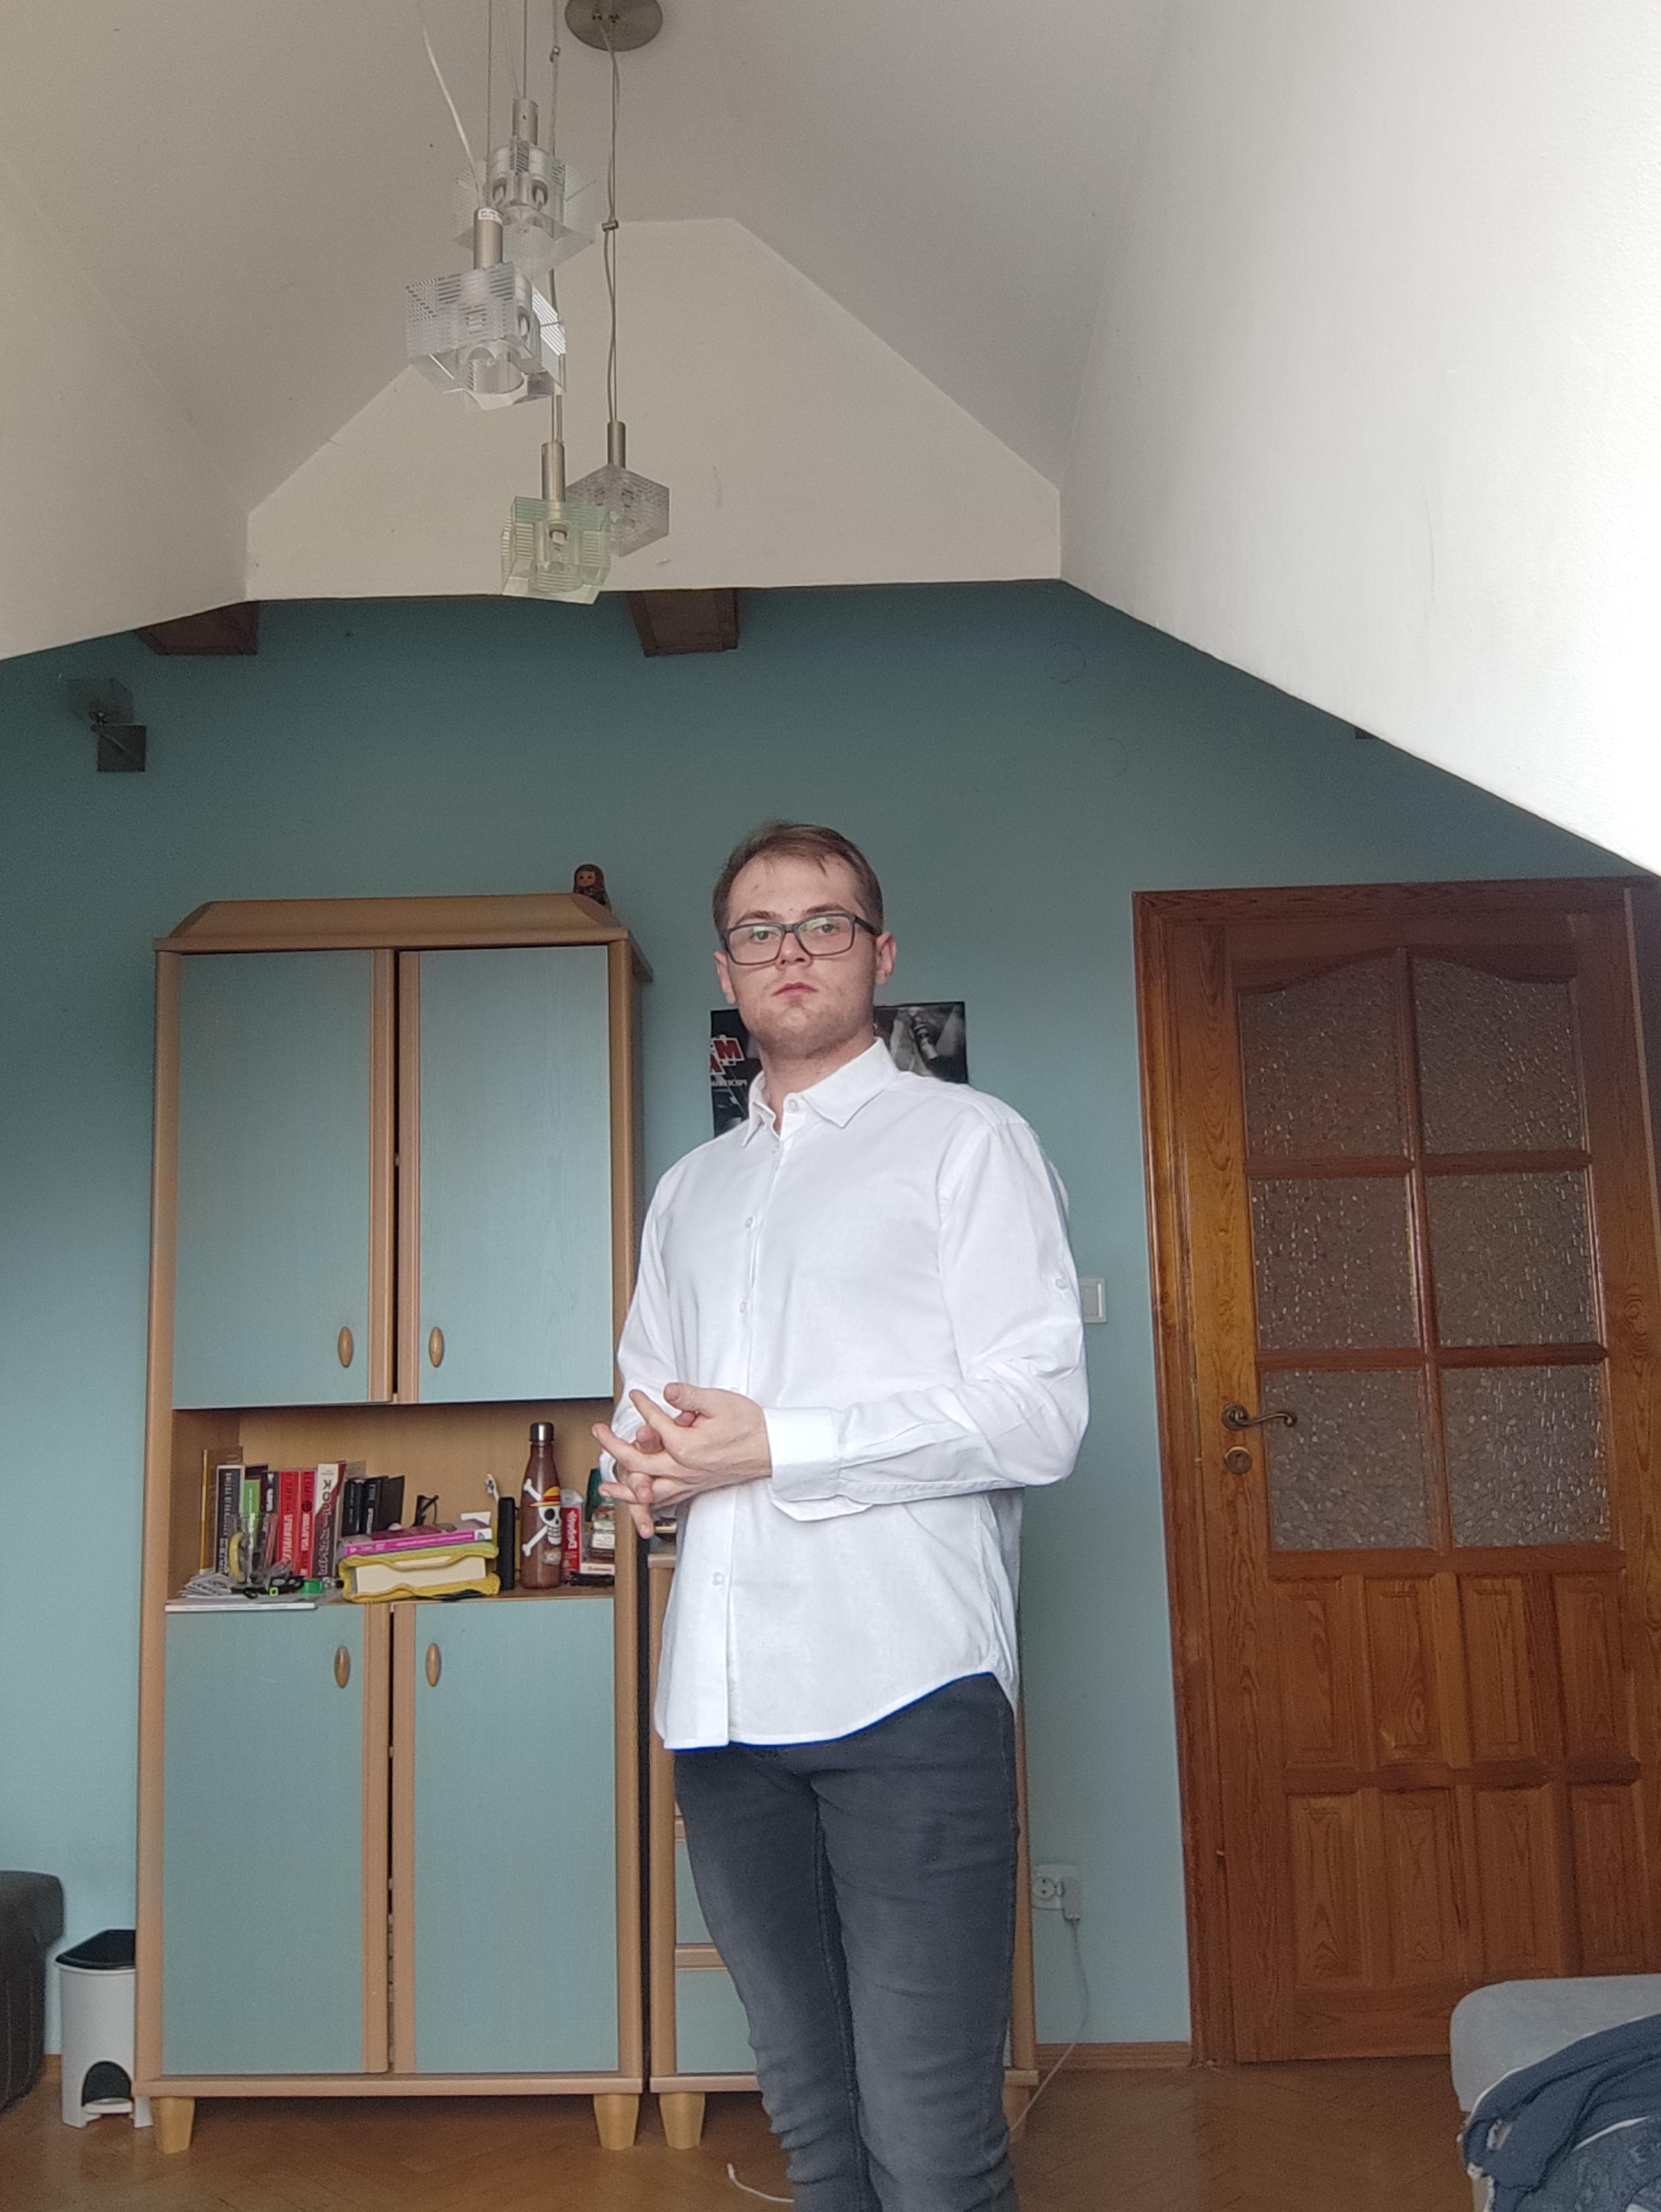pants: (672, 1629, 1014, 2212)
shirt: (600, 1047, 1090, 1751)
